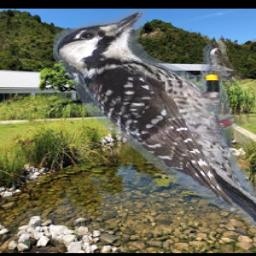Woodpecker: (53, 10, 256, 227)
